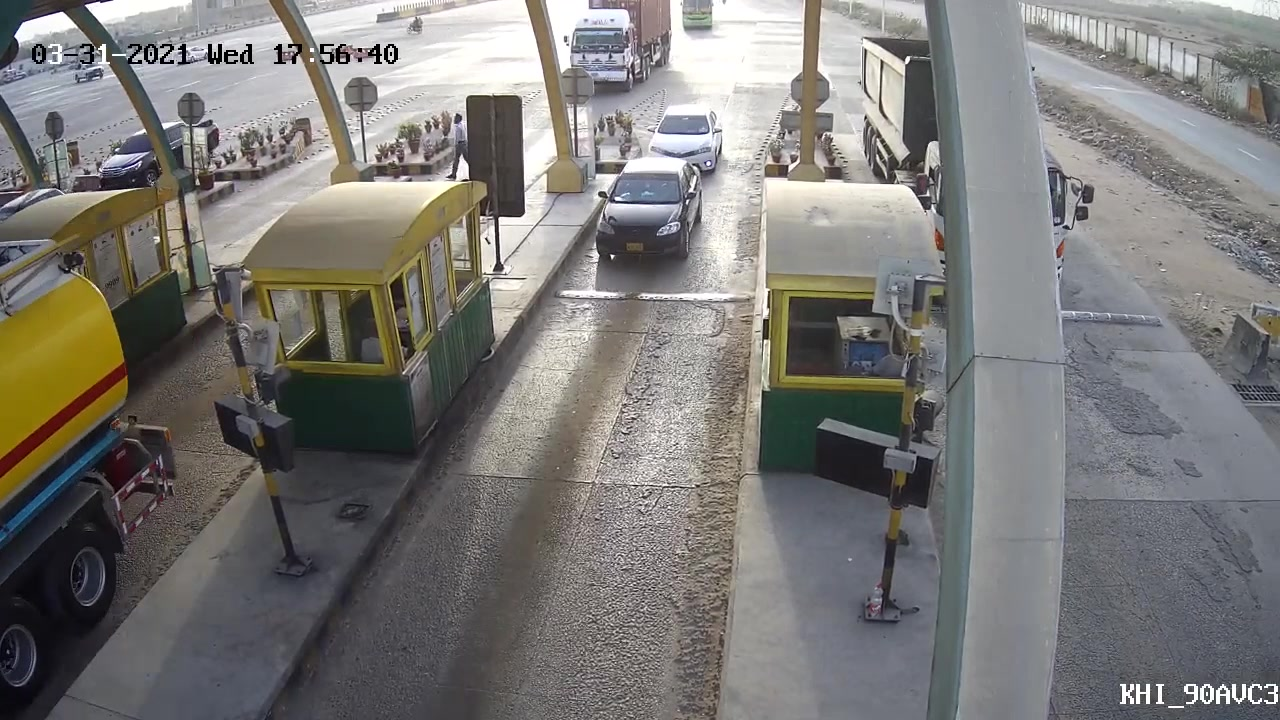F1: (589, 154, 713, 276)
